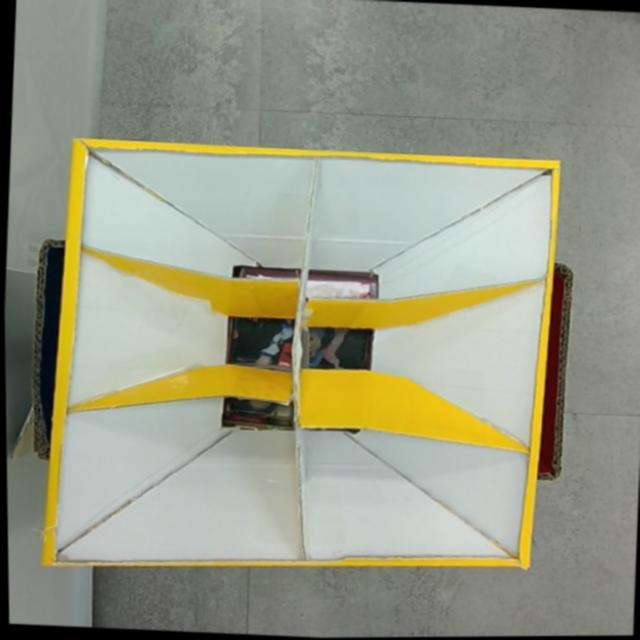box: (18, 130, 583, 593)
